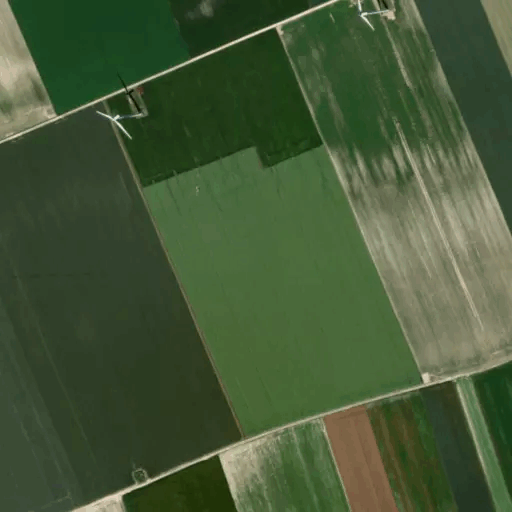wt: (92, 62, 154, 152), (348, 1, 405, 40)
